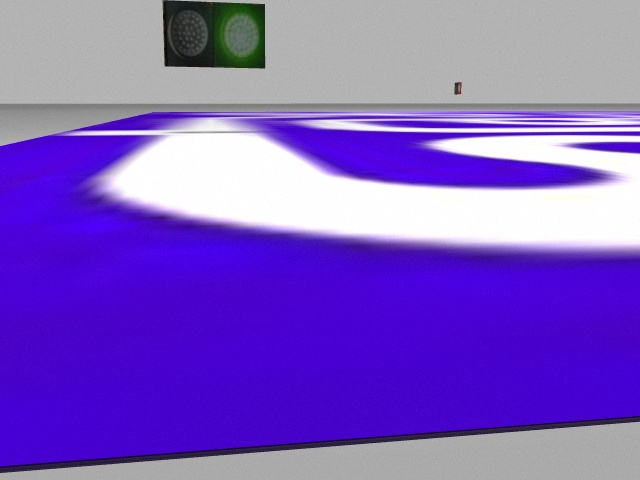green: (216, 2, 269, 71)
